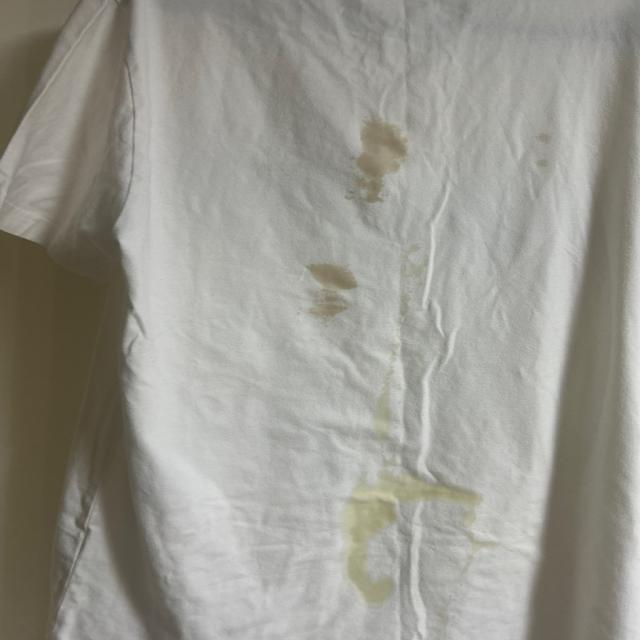stain: (354, 467, 487, 511), (346, 117, 405, 202), (298, 257, 354, 322), (340, 558, 401, 614), (342, 509, 402, 555), (521, 128, 564, 172)
